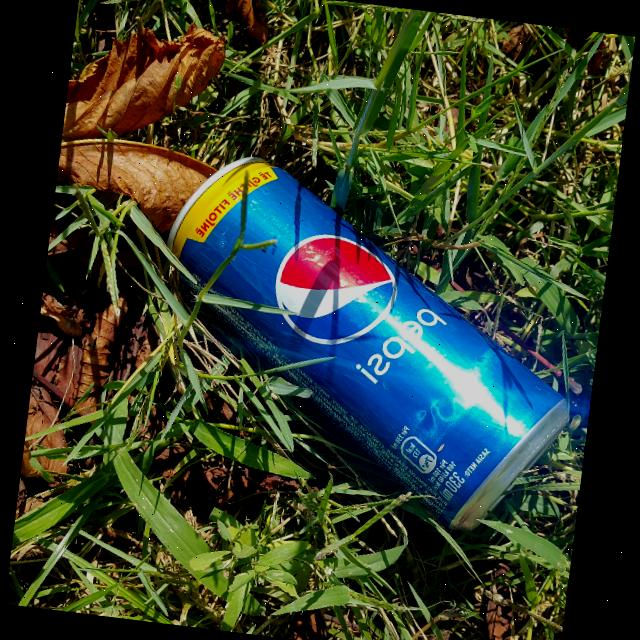trash: (136, 146, 599, 544)
